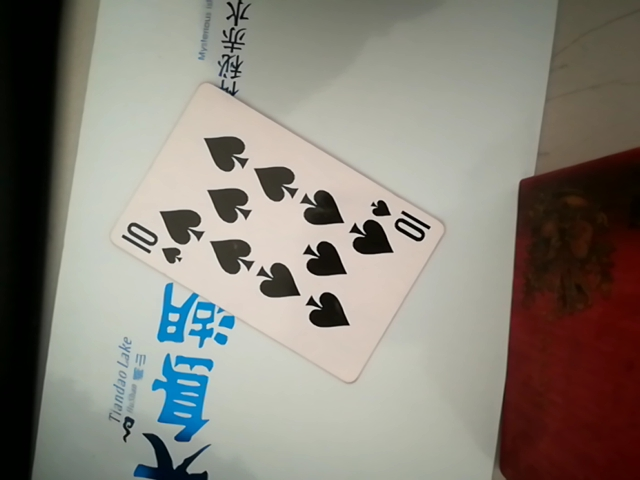ht 10: (113, 80, 447, 372)
